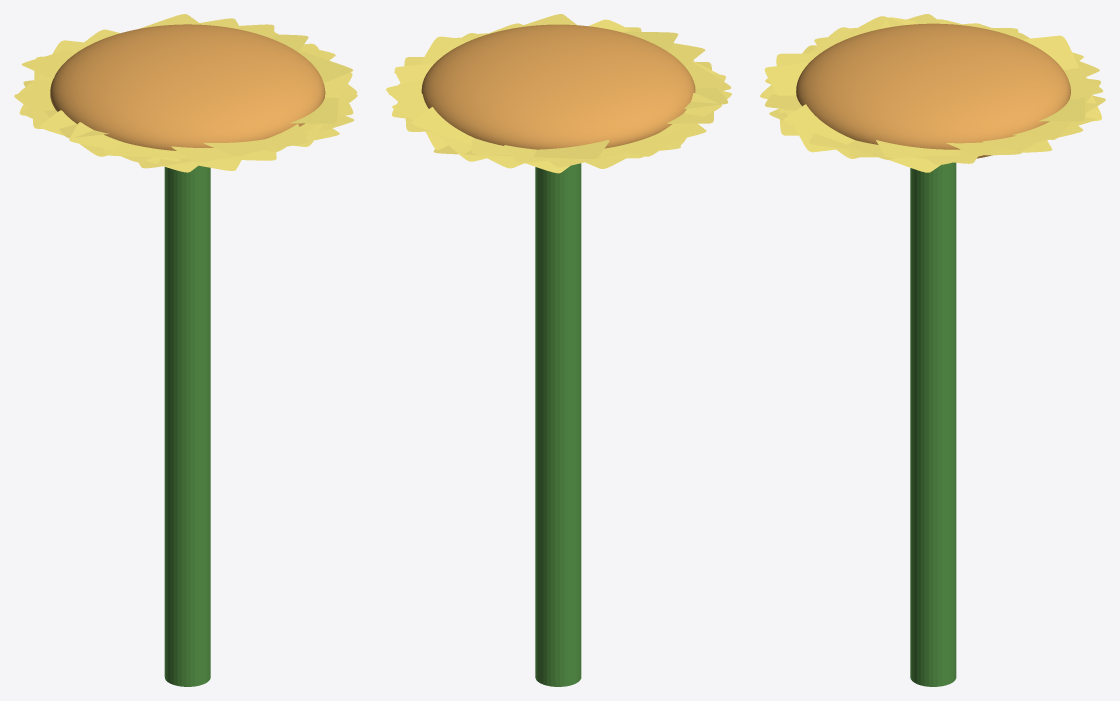
3 views of the same model, side by side, from view 1: azimuth 30°, elevation 25°; view 2: azimuth 150°, elevation 25°; view 3: azimuth 270°, elevation 25° (orthographic).
Visible parts, largest first — view 1: Sphere, Cylinder, Plane.015, Plane.016, Plane.019, Plane.010, Plane.017, Plane.018, Plane.014, Plane.007, Plane.022, Plane.021 (+1 smaller); view 2: Sphere, Cylinder, Plane.010, Plane.006, Plane.007, Plane.004, Plane.005, Plane.011, Plane.003, Plane.001, Plane.008, Plane.016 (+2 smaller); view 3: Sphere, Cylinder, Plane.022, Plane.019, Plane.007, Plane.001, Plane.005, Plane.018, Plane.004, Plane.006, Plane.002, Plane.003 (+2 smaller).
Boxes of the visible parts, x1=… form: Sphere: x1=50, y1=24, x2=325, y2=150; Cylinder: x1=164, y1=165, x2=210, y2=686; Plane.015: x1=69, y1=122, x2=241, y2=170; Plane.016: x1=104, y1=142, x2=276, y2=160; Plane.019: x1=204, y1=115, x2=354, y2=156; Plane.010: x1=33, y1=56, x2=55, y2=128; Plane.017: x1=138, y1=124, x2=307, y2=168; Plane.018: x1=171, y1=123, x2=339, y2=162; Plane.014: x1=39, y1=110, x2=197, y2=172; Plane.007: x1=21, y1=50, x2=75, y2=78; Plane.022: x1=290, y1=97, x2=338, y2=123; Plane.021: x1=294, y1=72, x2=352, y2=146; Sphere: x1=421, y1=24, x2=695, y2=149; Cylinder: x1=535, y1=163, x2=581, y2=686; Plane.010: x1=549, y1=123, x2=706, y2=167; Plane.006: x1=411, y1=107, x2=570, y2=173; Plane.007: x1=433, y1=140, x2=609, y2=158; Plane.004: x1=386, y1=79, x2=486, y2=161; Plane.005: x1=392, y1=94, x2=524, y2=168; Plane.011: x1=585, y1=93, x2=721, y2=168; Plane.003: x1=394, y1=63, x2=448, y2=150; Plane.001: x1=392, y1=36, x2=470, y2=118; Plane.008: x1=471, y1=138, x2=643, y2=158; Plane.016: x1=684, y1=61, x2=731, y2=91; Sphere: x1=796, y1=23, x2=1070, y2=158; Cylinder: x1=910, y1=162, x2=956, y2=686; Plane.022: x1=783, y1=104, x2=940, y2=172; Plane.019: x1=764, y1=62, x2=835, y2=152; Plane.007: x1=1021, y1=35, x2=1101, y2=121; Plane.001: x1=876, y1=140, x2=1052, y2=157; Plane.005: x1=1013, y1=79, x2=1100, y2=139; Plane.018: x1=776, y1=53, x2=819, y2=135; Plane.004: x1=982, y1=95, x2=1105, y2=150; Plane.006: x1=1039, y1=97, x2=1085, y2=121; Plane.002: x1=924, y1=121, x2=1083, y2=164; Plane.003: x1=946, y1=117, x2=1095, y2=155.
Size of the model in its own units: 0.7543 by 1.49 by 0.7509.
